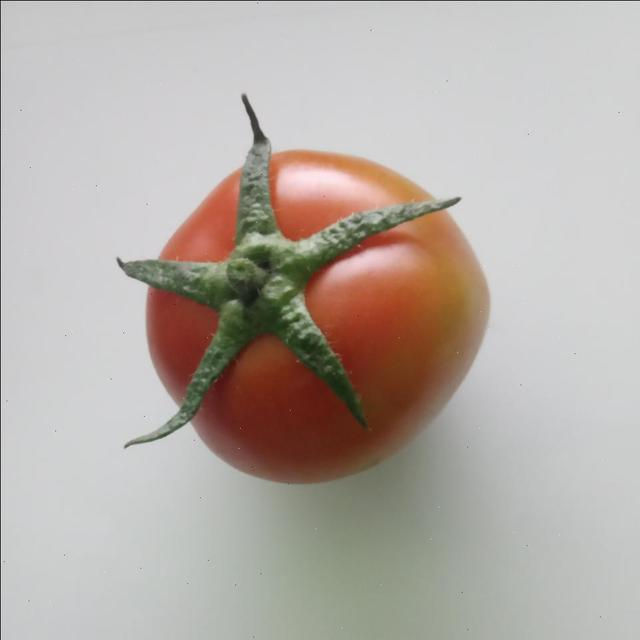Healthy Fruit: (95, 93, 329, 323)
